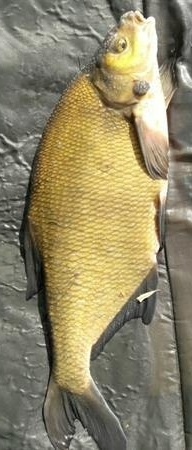Abramis brama: (20, 9, 172, 450)
